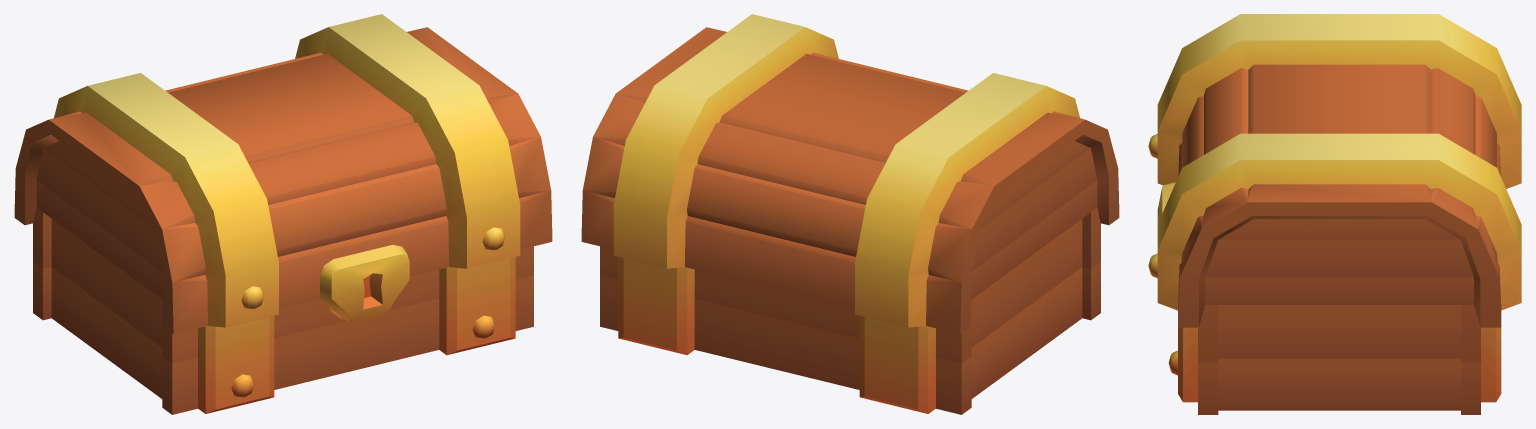
Rendered from chest_large.glb.
3 renders of one model, left to right at view 1: azimuth 30°, elevation 25°; view 2: azimuth 150°, elevation 25°; view 3: azimuth 270°, elevation 25°, orthographic.
Visible parts, largest first — view 1: chest_large_lid, chest_large; view 2: chest_large_lid, chest_large; view 3: chest_large_lid, chest_large.
Boxes of the visible parts, x1,y1,x2,y2 form: chest_large_lid: (14, 14, 552, 334); chest_large: (33, 207, 533, 414); chest_large_lid: (581, 14, 1119, 334); chest_large: (600, 207, 1100, 414); chest_large_lid: (1148, 14, 1521, 327); chest_large: (1168, 305, 1501, 414).
Size of the model in its own units: 2.2 by 1.3 by 1.85.
1 material, 1 textured.
